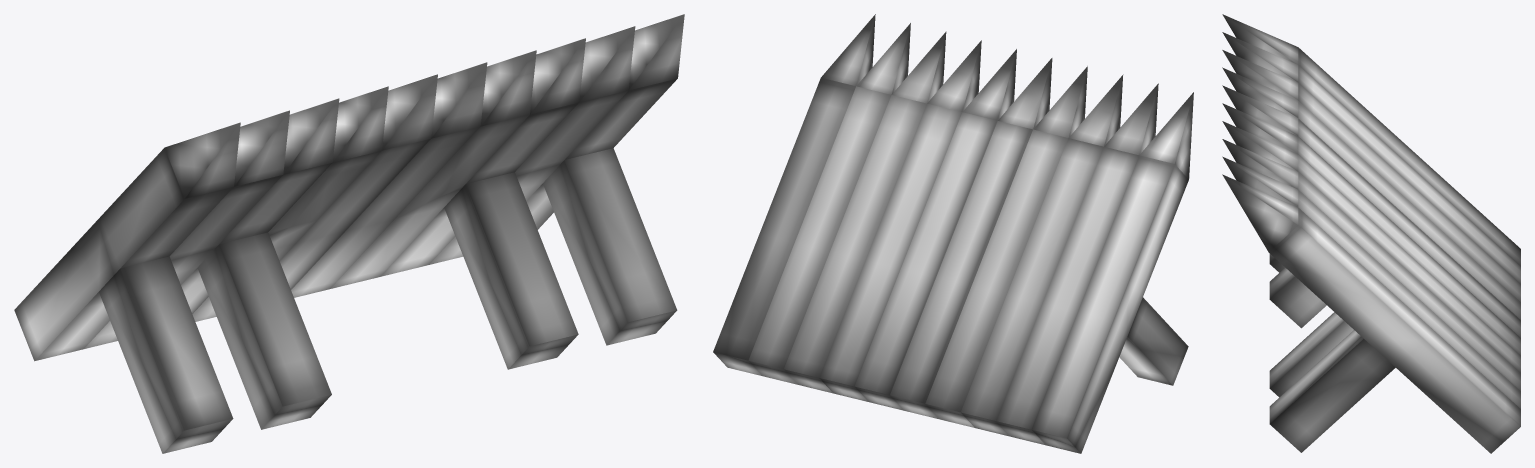
File: Palisade-Barrier-01.fbx
The picture shows the model from 3 angles, left to right: view 1: azimuth 30°, elevation 25°; view 2: azimuth 150°, elevation 25°; view 3: azimuth 270°, elevation 25°; orthographic projection. The views are drawn at different scales.
Parts seen in each view (by area): view 1: Palisade-Barrier; view 2: Palisade-Barrier; view 3: Palisade-Barrier.
Part boxes in pixels (<box>): Palisade-Barrier: <box>14,14,684,453</box>; Palisade-Barrier: <box>713,14,1193,453</box>; Palisade-Barrier: <box>1222,14,1520,453</box>.
Size of the model in its own units: 0.5 by 0.3545 by 0.3545.
